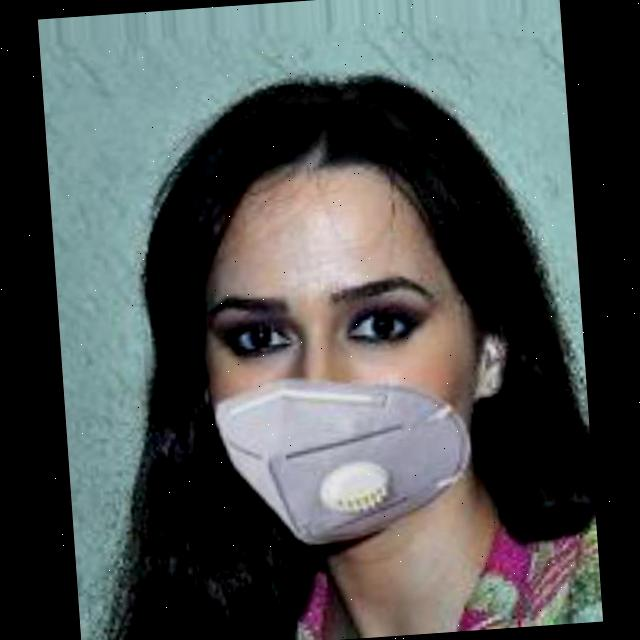suspicion: (140, 59, 521, 600)
